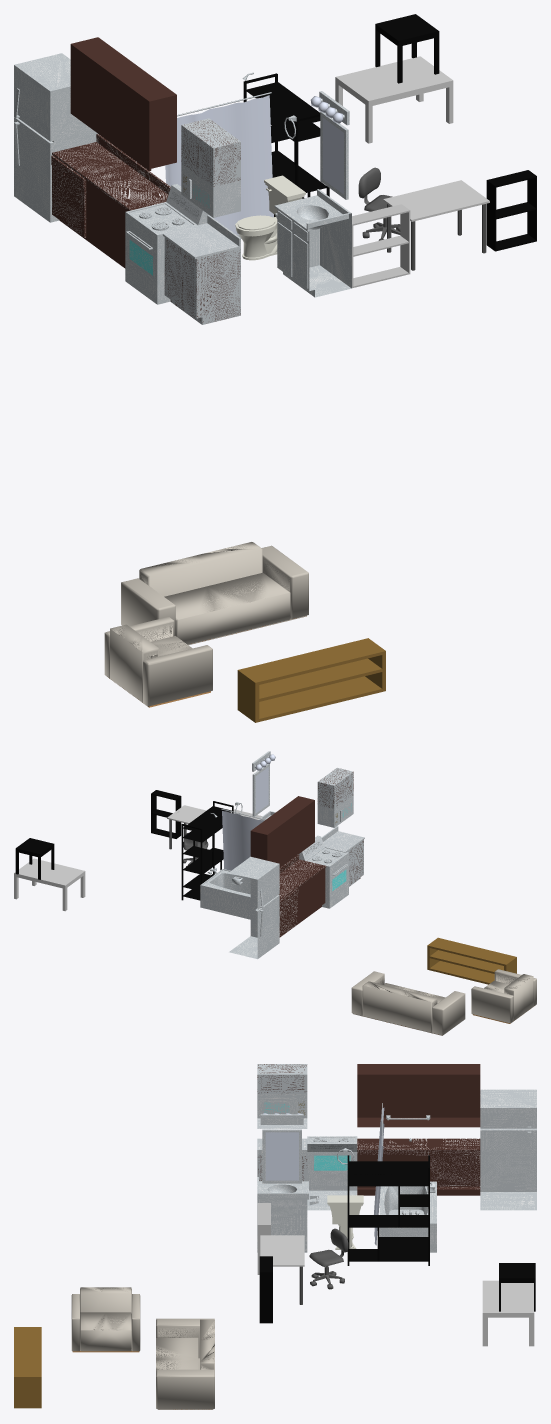
3 views of the same model, one above another, from view 1: azimuth 30°, elevation 25°; view 2: azimuth 150°, elevation 25°; view 3: azimuth 270°, elevation 25° (orthographic). The views are drawn at different scales.
Visible parts, largest first — view 1: SketchUp_359; view 2: SketchUp_359; view 3: SketchUp_359.
Part boxes in pixels (<box>): SketchUp_359: <box>14,14,536,722</box>; SketchUp_359: <box>14,751,536,1035</box>; SketchUp_359: <box>14,1064,536,1409</box>.
Size of the model in its own units: 7.82 by 7.98 by 5.71.
